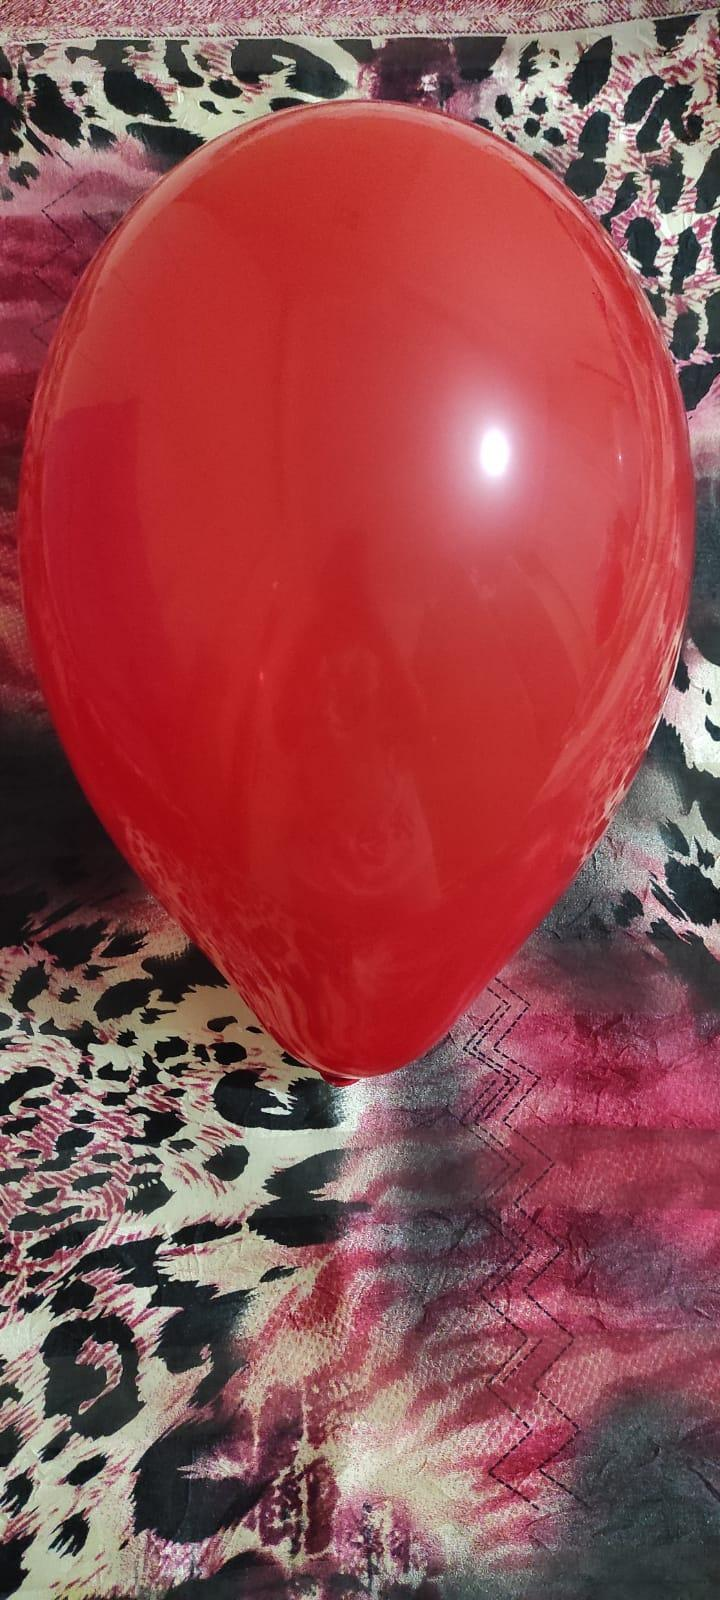red: (4, 91, 706, 1093)
